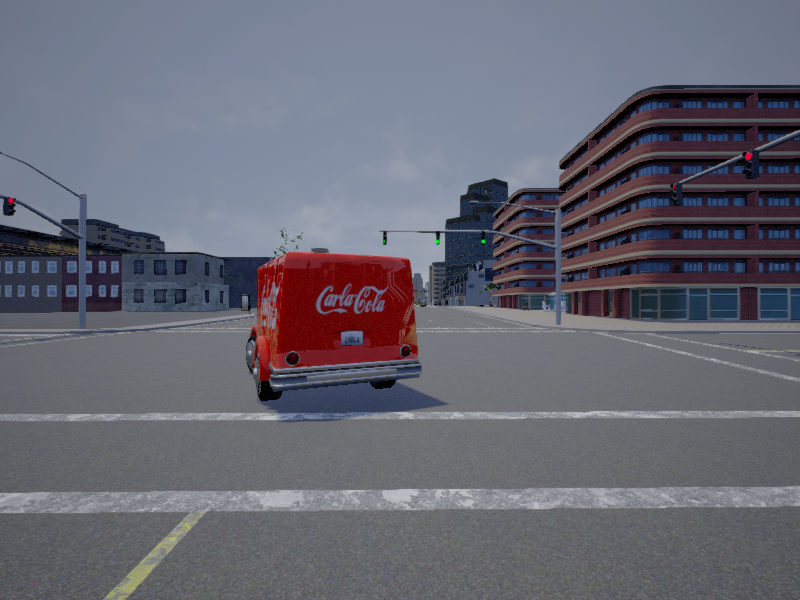Benign: (246, 259, 421, 399)
